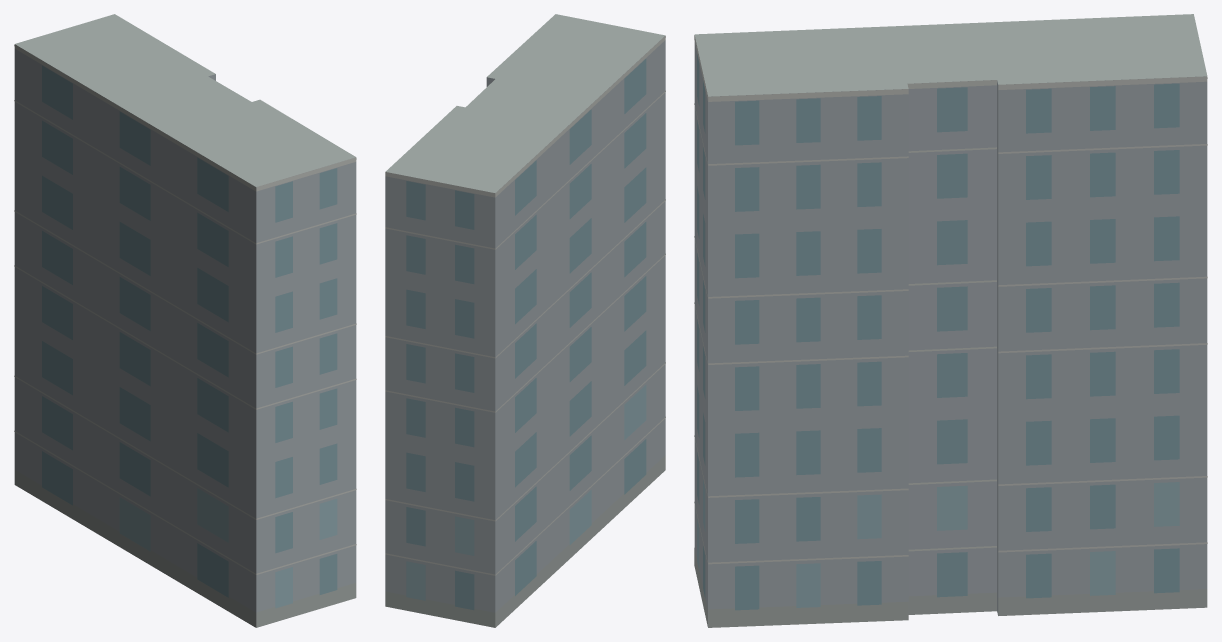
The model's file is survey-upis-32539508.glb.
3 renders of one model, left to right at view 1: azimuth 30°, elevation 25°; view 2: azimuth 150°, elevation 25°; view 3: azimuth 270°, elevation 25°, orthographic. The views are drawn at different scales.
Parts seen in each view (by area): view 1: survey-upis-32539508.tmp; view 2: survey-upis-32539508.tmp; view 3: survey-upis-32539508.tmp.
Boxes of the visible parts, x1,y1,x2,y2 form: survey-upis-32539508.tmp: (14,14,356,627); survey-upis-32539508.tmp: (385,14,665,627); survey-upis-32539508.tmp: (694,14,1207,627).
Size of the model in its own units: 8.03 by 24 by 21.03.
